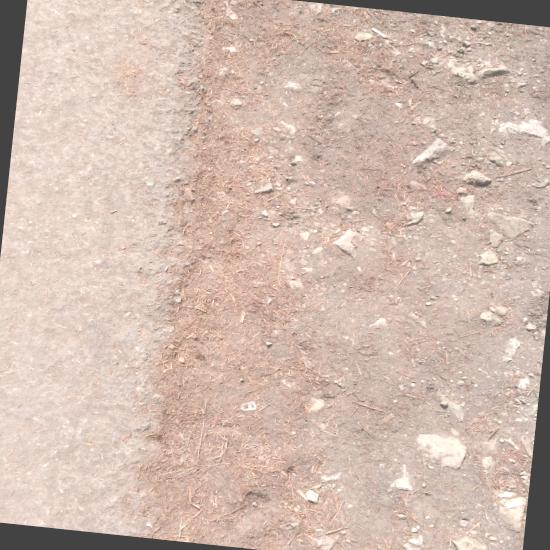Cigarette: (371, 28, 389, 38)
Pop tab: (240, 401, 257, 411)
